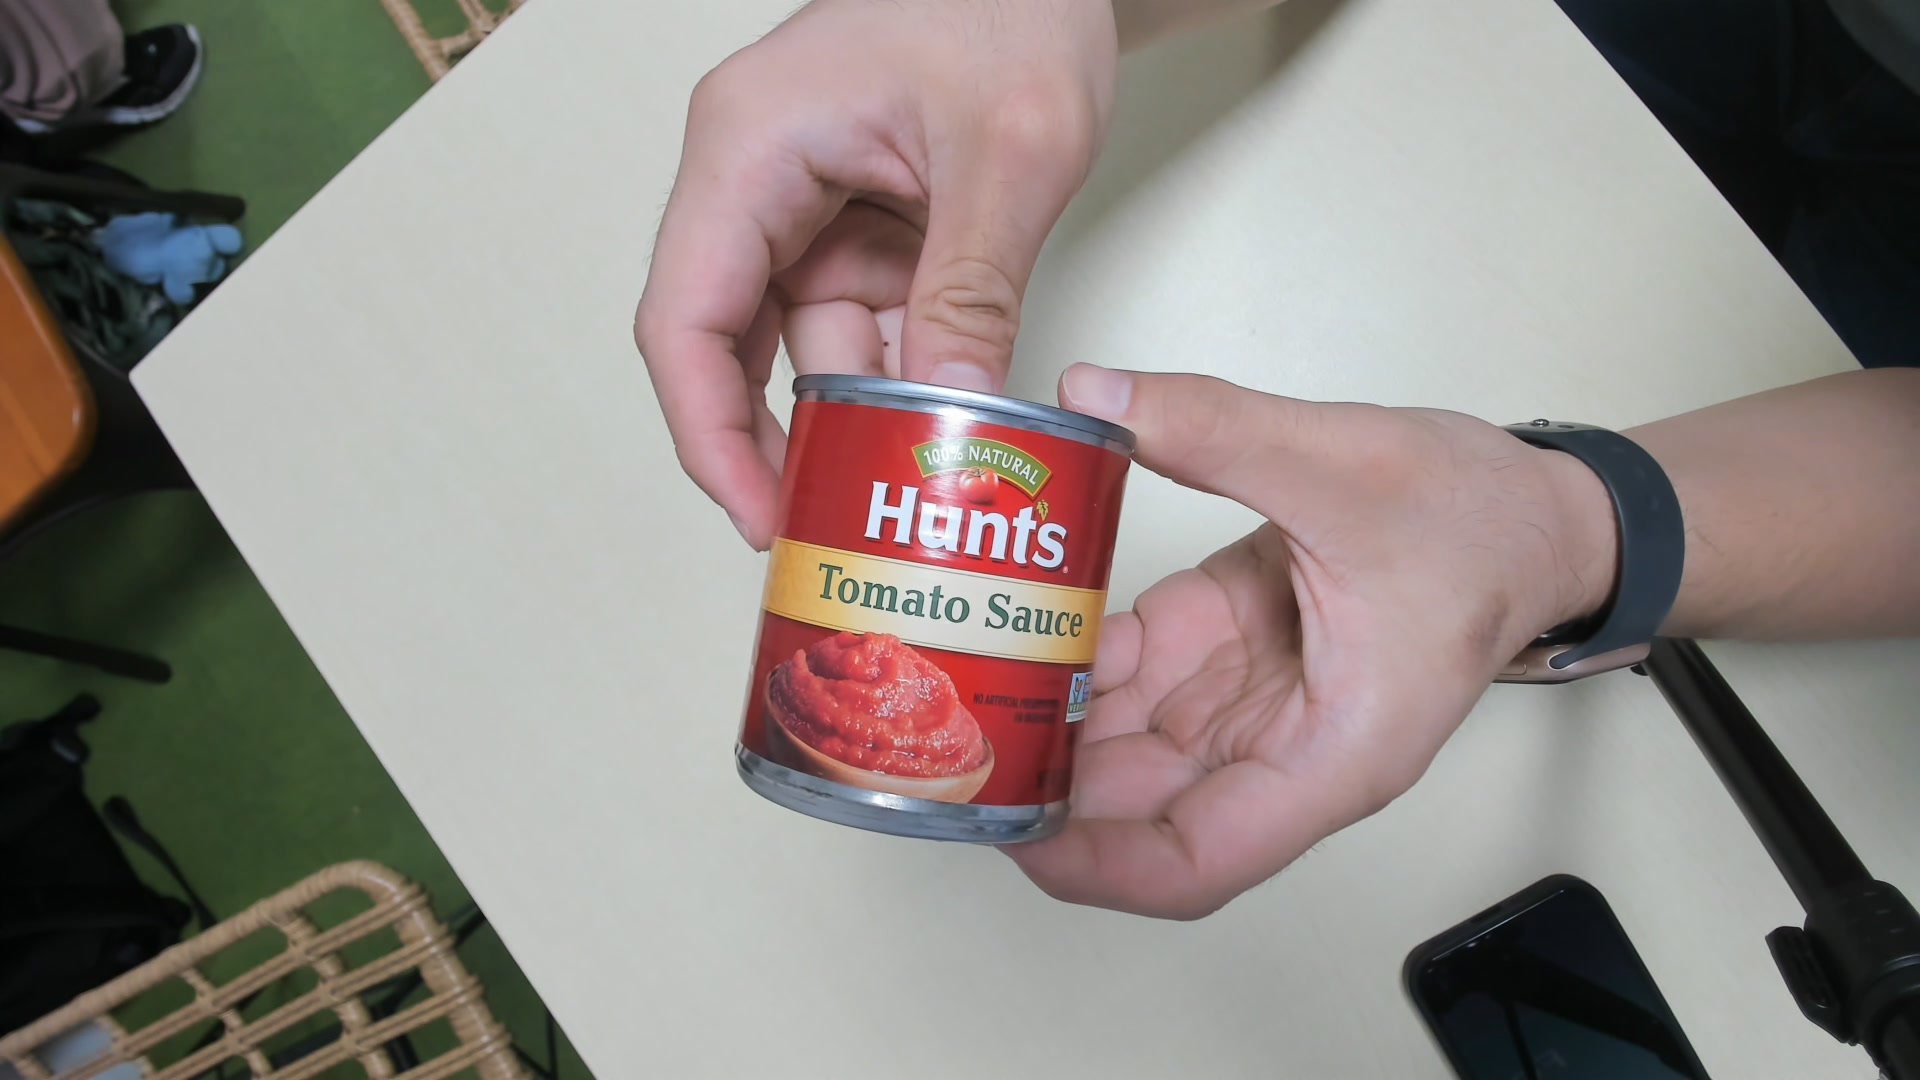OtherSauceDressing_200-299g_NonHalal_NonHealthy: (741, 372, 1138, 847)
